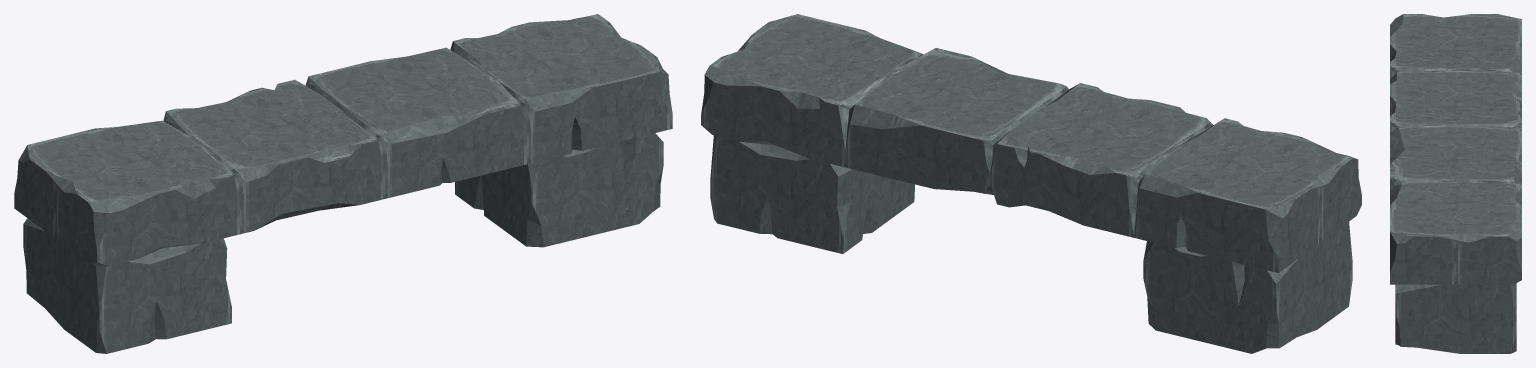
File: Stone Bridge W4.fbx
3 views of the same model, side by side, from view 1: azimuth 30°, elevation 25°; view 2: azimuth 150°, elevation 25°; view 3: azimuth 270°, elevation 25° (orthographic). The views are drawn at different scales.
Parts seen in each view (by area): view 1: StoneBridge_W4; view 2: StoneBridge_W4; view 3: StoneBridge_W4.
Boxes of the visible parts, <box> form: StoneBridge_W4: <box>14,14,672,353</box>; StoneBridge_W4: <box>701,14,1361,353</box>; StoneBridge_W4: <box>1390,14,1521,353</box>.
Size of the model in its own units: 4 by 1 by 1.
